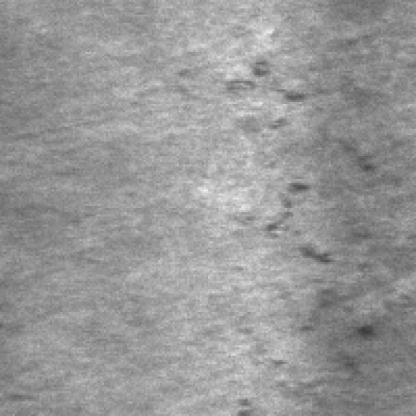rolled-in_scale: (260, 170, 368, 374), (214, 54, 304, 133)
